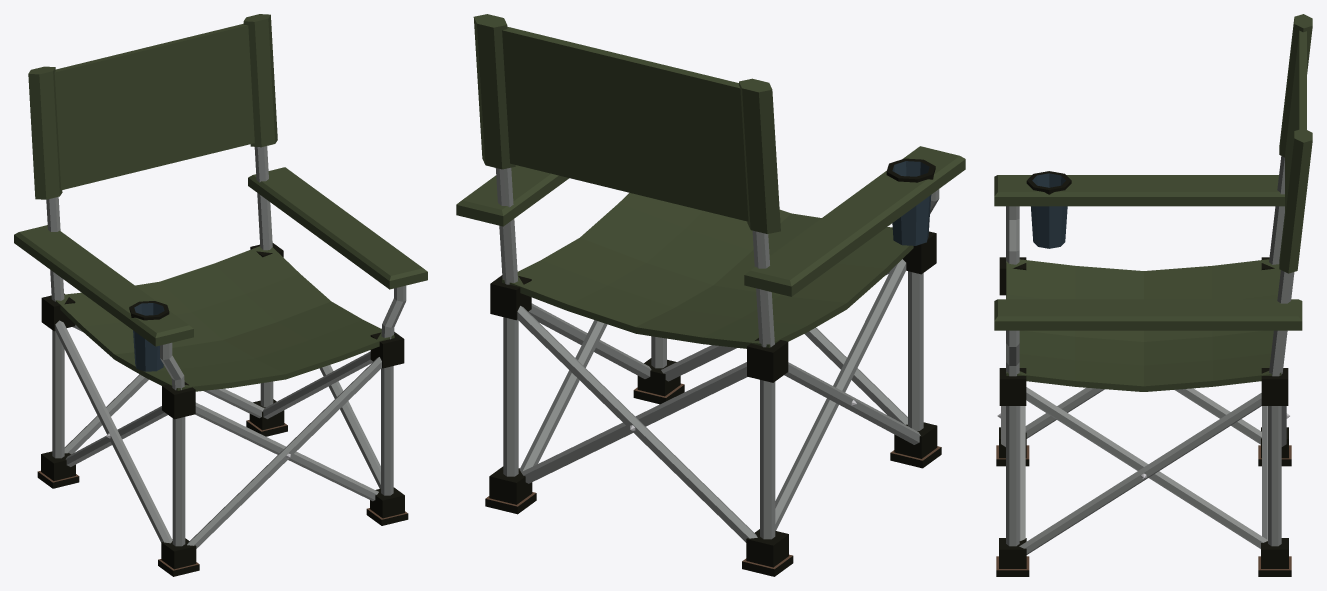
The model's file is folding-camp-chair-2fc7d1.glb.
The picture shows the model from 3 angles, left to right: view 1: azimuth 30°, elevation 25°; view 2: azimuth 150°, elevation 25°; view 3: azimuth 270°, elevation 25°; orthographic projection. The views are drawn at different scales.
Parts seen in each view (by area): view 1: chair; view 2: chair; view 3: chair.
Part boxes in pixels (bbox=[...]): chair: bbox=[14, 14, 427, 576]; chair: bbox=[456, 14, 965, 576]; chair: bbox=[994, 14, 1312, 576].
Size of the model in its own units: 0.64 by 0.9018 by 0.5958.
